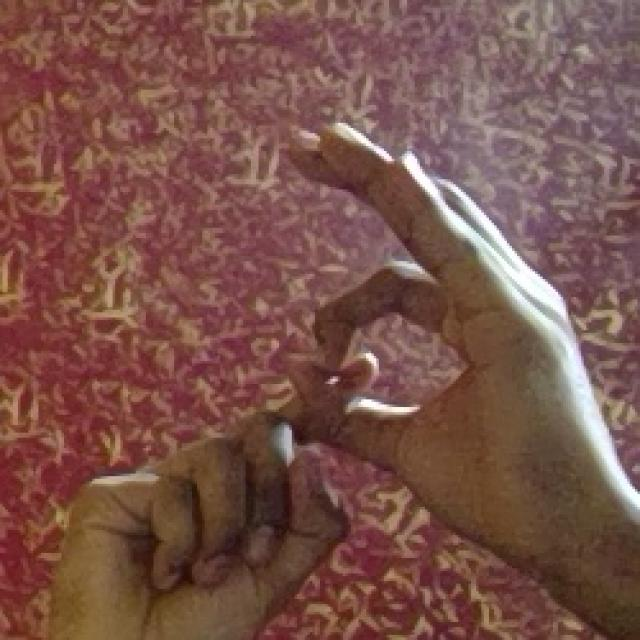Alphabet-Q: (15, 127, 589, 628)
